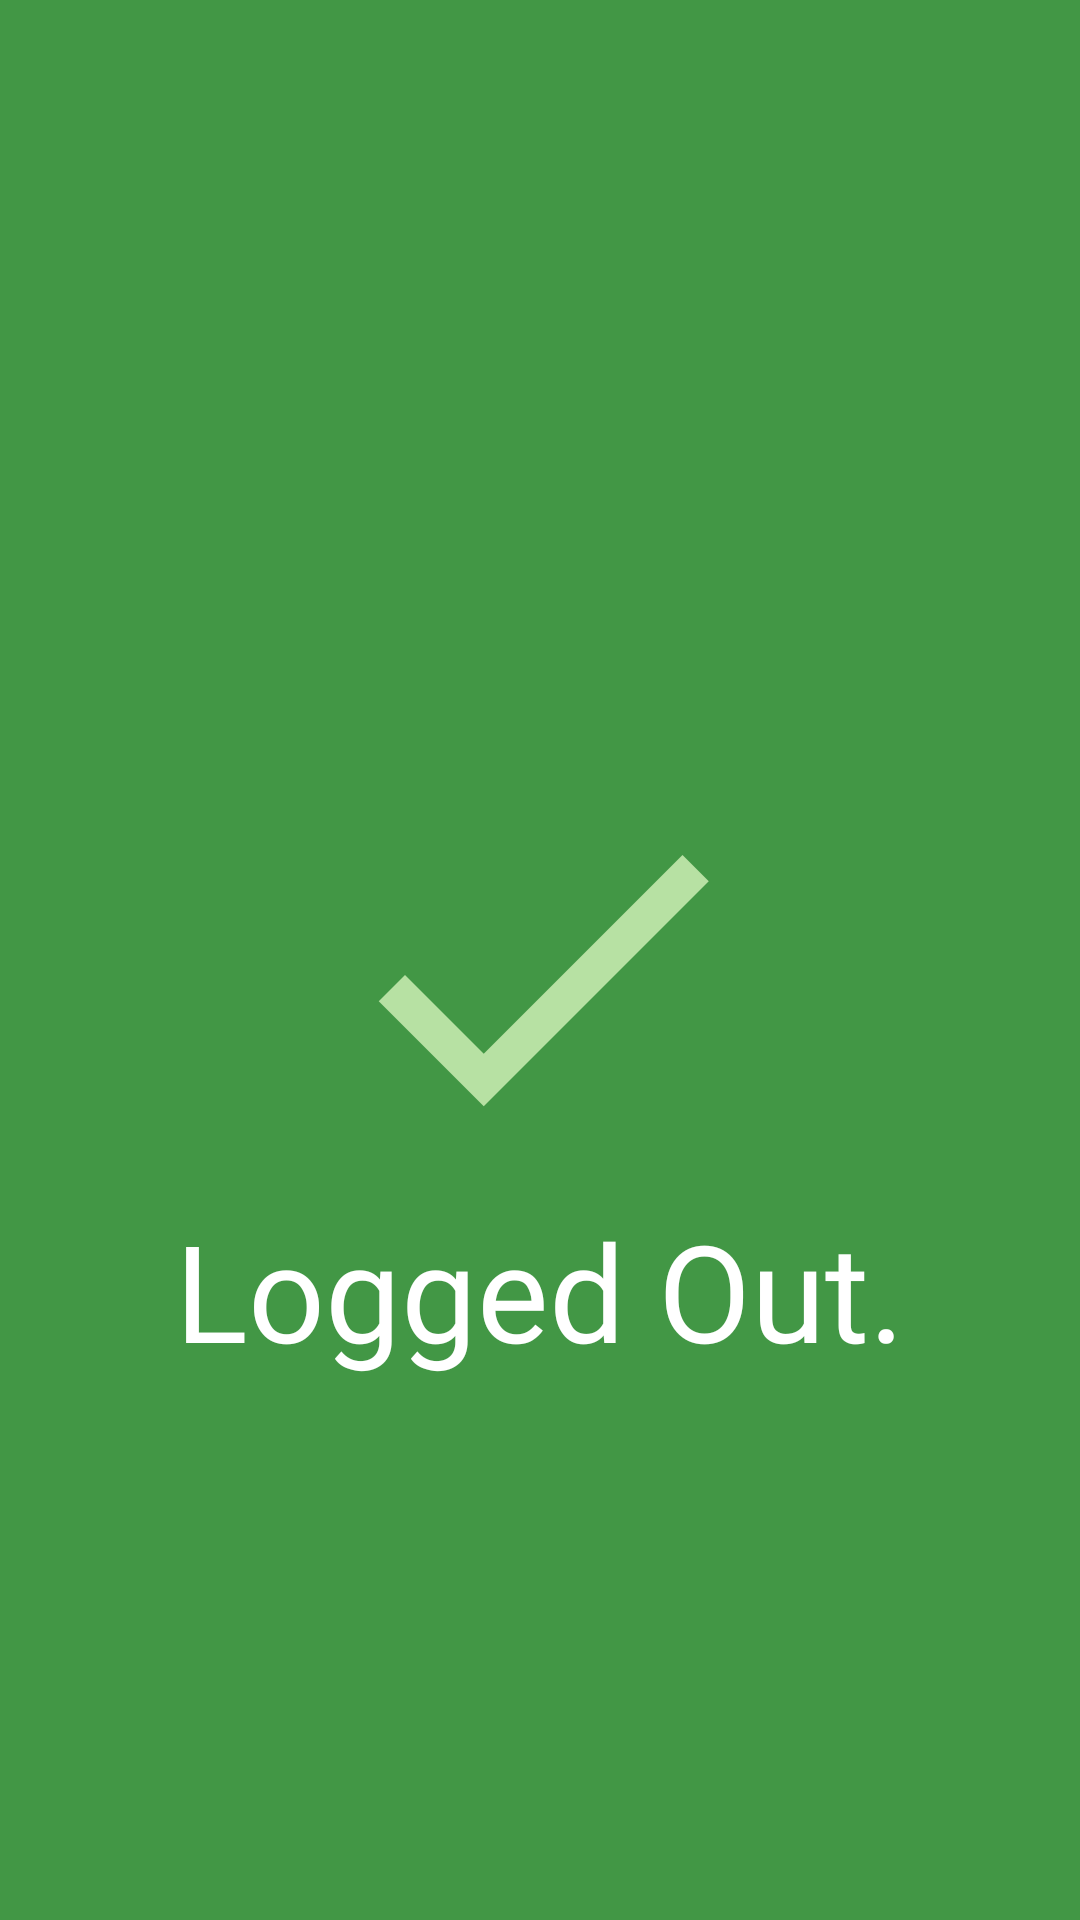

Point at icon controls on the screen. Image size 1080px×1920px, points as [x,y].
done: [544,980]
